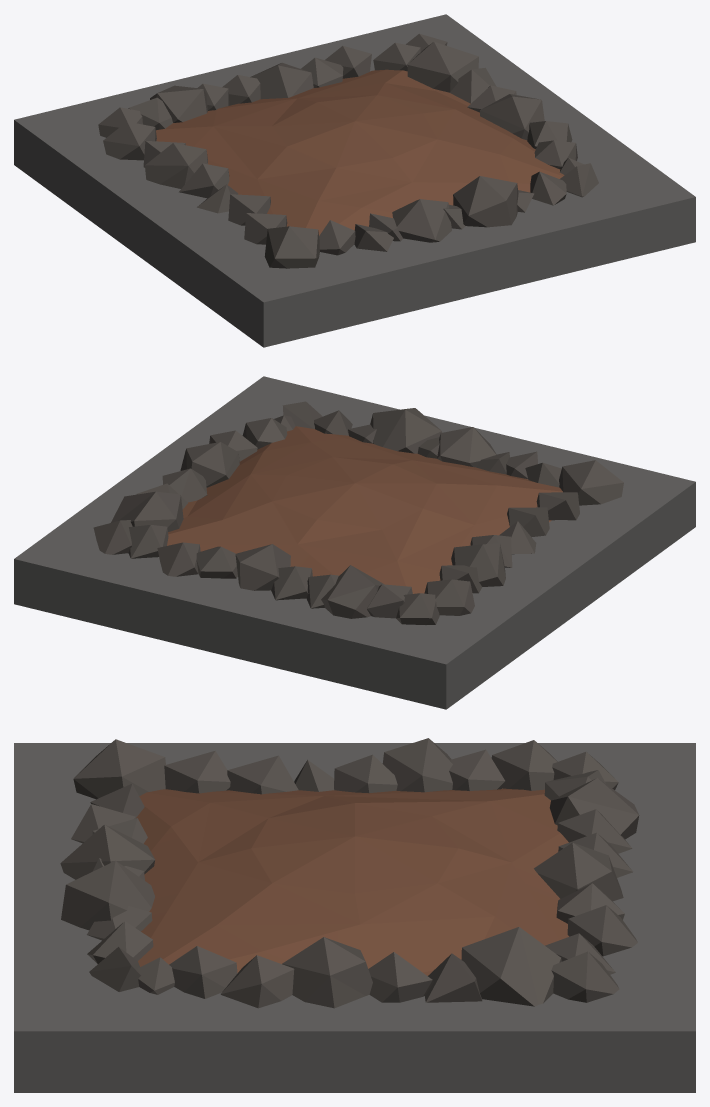
File: Paved2x2Planter2.fbx
3 views of the same model, one above another, from view 1: azimuth 30°, elevation 25°; view 2: azimuth 150°, elevation 25°; view 3: azimuth 270°, elevation 25° (orthographic). The views are drawn at different scales.
Visible parts, largest first — view 1: Paved2x2Planter2; view 2: Paved2x2Planter2; view 3: Paved2x2Planter2.
Boxes of the visible parts, <box> form: Paved2x2Planter2: <box>14,14,695,347</box>; Paved2x2Planter2: <box>14,376,695,709</box>; Paved2x2Planter2: <box>14,738,695,1092</box>.
Size of the model in its own units: 200 by 37.15 by 200.
